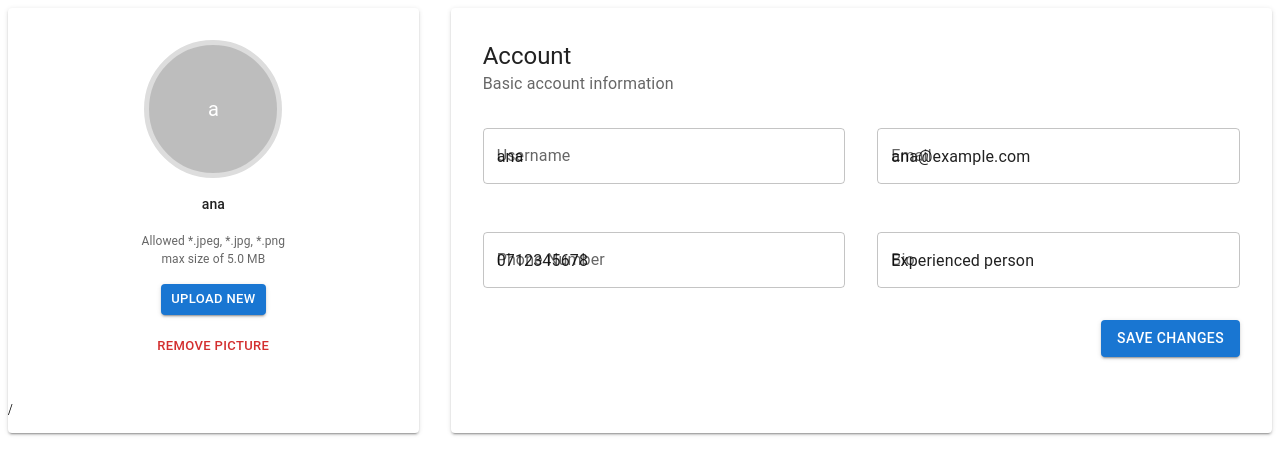
Test: <UserForm /> › requires Email
The width and height of the screenshot is (1280, 463).
expect the field labelled "Username" holds "ana": met, box [483, 128, 845, 184]
Clear the field labelled "Email" at (1059, 156), box [877, 128, 1240, 184]
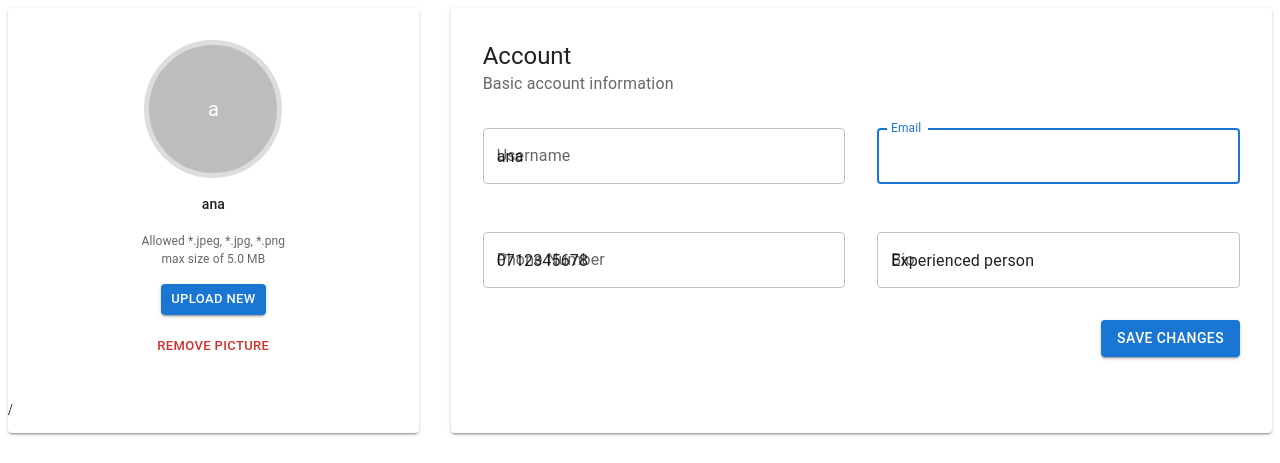
Press Tab
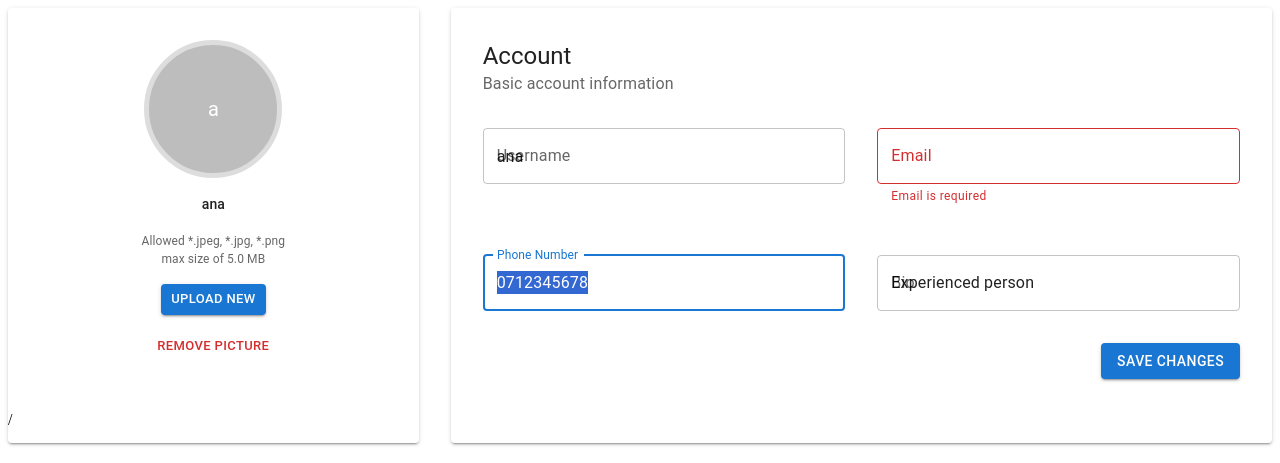
expect the text "Email is required" is shown: met, box [891, 189, 987, 203]
